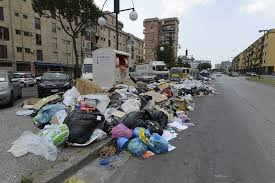garbage: (26, 97, 193, 156), (76, 79, 195, 145)
